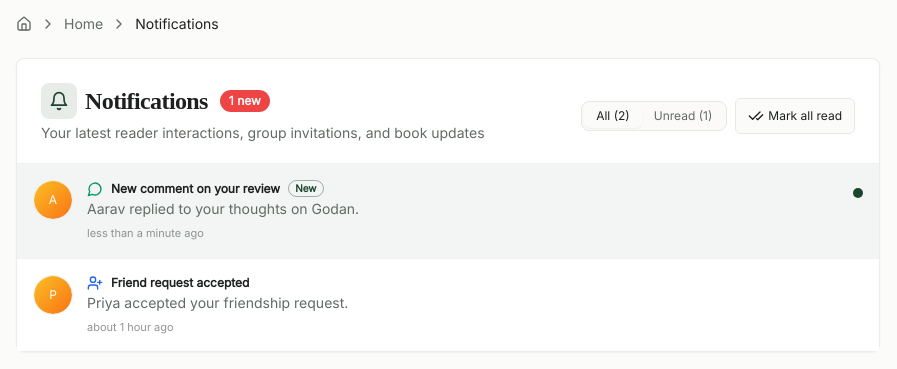
Test case: NotificationsPage › filters by unread notifications when unread filter is active
Click the button "Unread (1)".
click(683, 116)  # box [642,104,724,128]
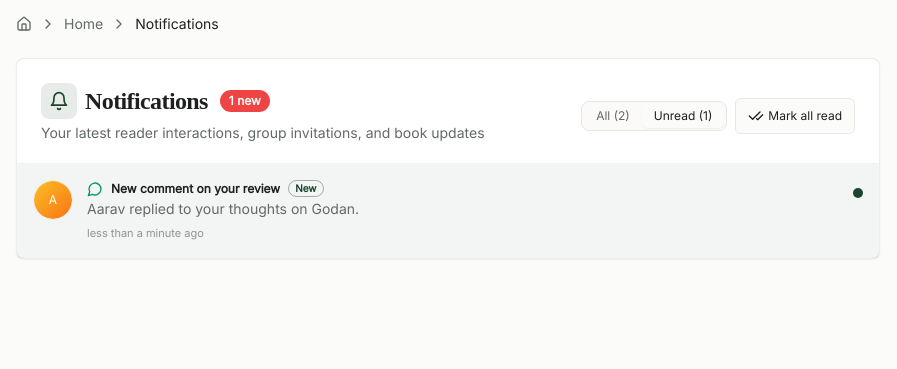
Expected: the text "New comment on your review" is shown, [111,180,280,196]
Now the button "Friend request accepted" is gone
